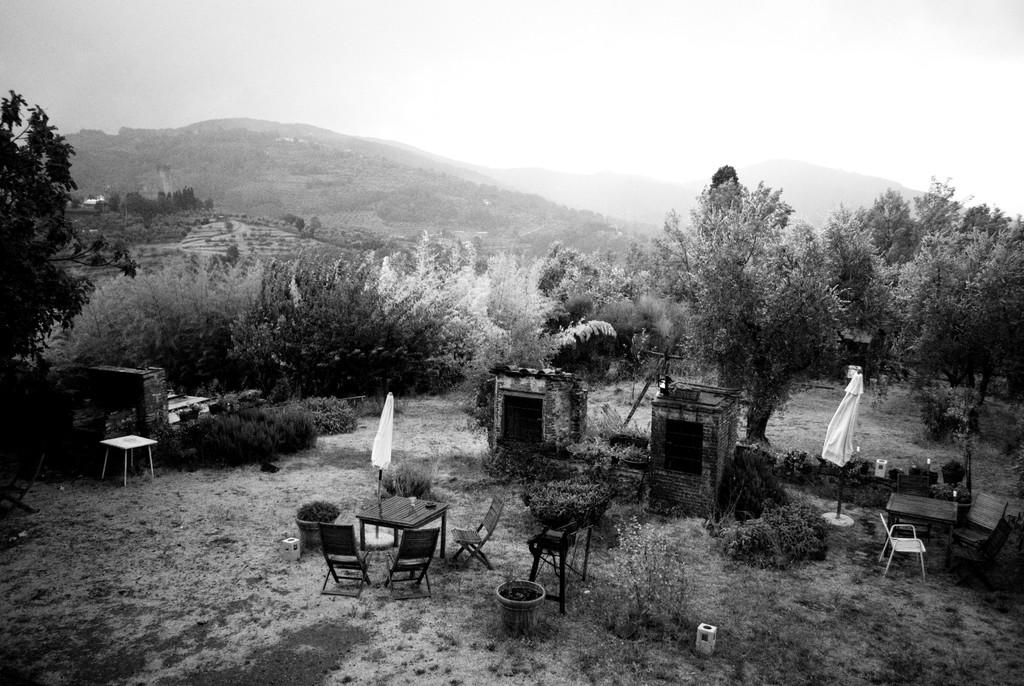Tree: (135, 220, 676, 430), (847, 169, 1023, 499), (682, 182, 846, 476), (0, 90, 128, 421)
